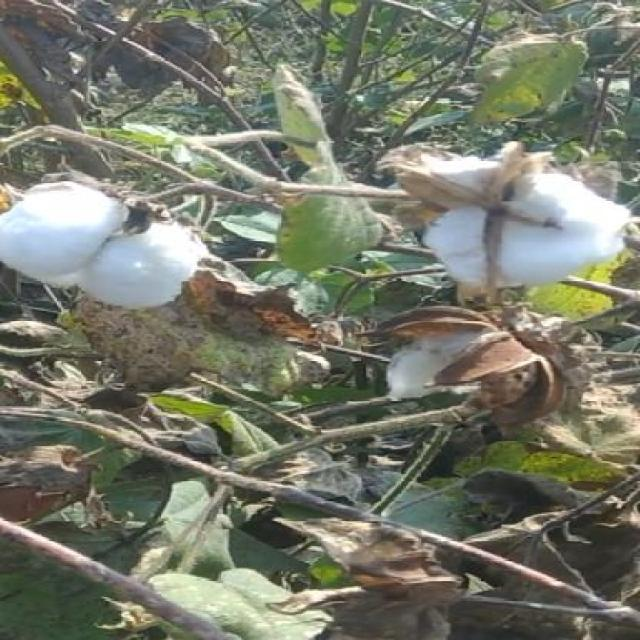cotton_ready: (355, 120, 620, 311), (7, 163, 219, 323)
